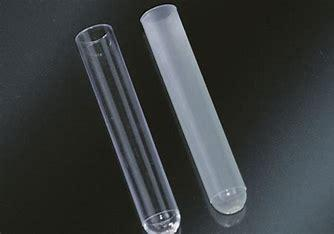Test tube: (65, 17, 263, 231)
